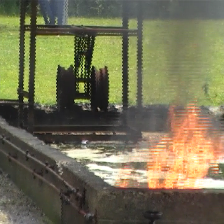fire_h: (149, 104, 224, 189), (114, 160, 140, 189)
